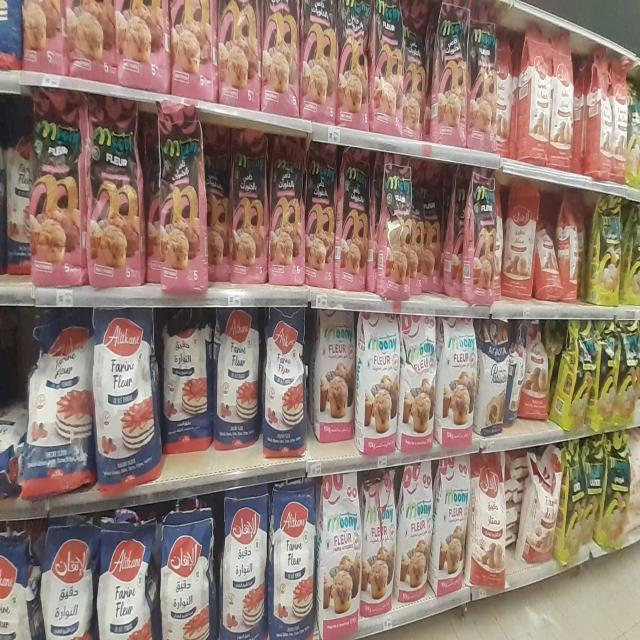produto: (19, 78, 214, 303), (357, 305, 638, 438)
